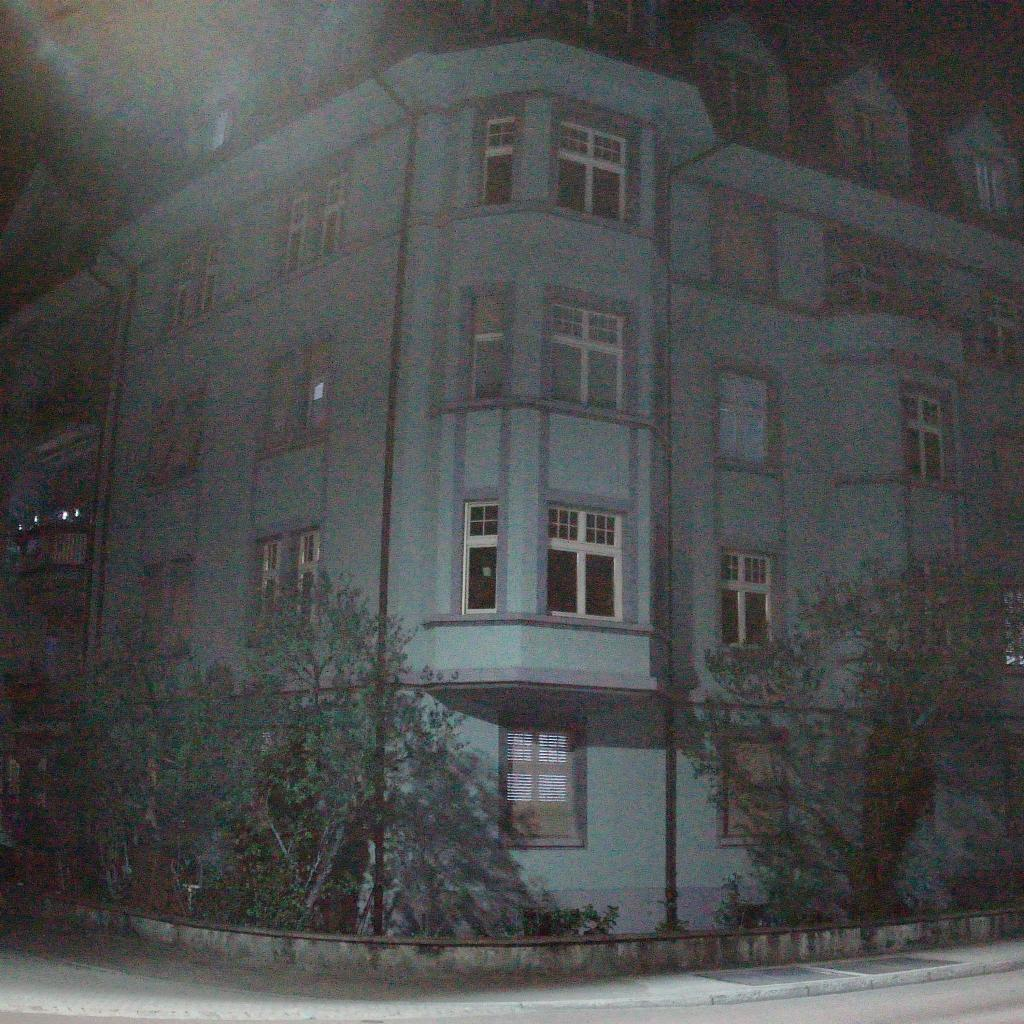balcony-fence: (3, 521, 91, 578)
facade: (1, 0, 1024, 930)
street: (0, 883, 1024, 1024)
vegetation: (0, 408, 1024, 934)
window: (548, 505, 624, 622), (507, 721, 581, 840), (550, 299, 627, 413), (558, 120, 629, 223), (254, 723, 323, 828), (711, 192, 777, 300), (96, 725, 160, 828), (722, 740, 783, 836), (868, 743, 926, 838), (718, 373, 773, 469), (720, 553, 771, 648), (900, 389, 948, 484), (913, 577, 967, 660), (461, 501, 499, 614), (716, 61, 768, 139), (852, 238, 908, 308), (978, 284, 1024, 363), (471, 294, 505, 397), (480, 116, 515, 205), (973, 151, 1016, 222), (265, 355, 296, 451), (295, 528, 321, 638), (255, 539, 282, 644), (177, 386, 206, 481), (559, 0, 636, 35), (137, 565, 165, 660), (305, 339, 332, 436), (318, 172, 348, 259), (999, 736, 1024, 838), (169, 558, 195, 656), (148, 400, 177, 486), (852, 111, 887, 182), (282, 193, 310, 276), (997, 589, 1024, 665), (327, 25, 361, 79), (170, 258, 193, 331), (200, 238, 220, 314), (207, 104, 233, 154), (29, 760, 48, 812), (8, 762, 21, 809)
